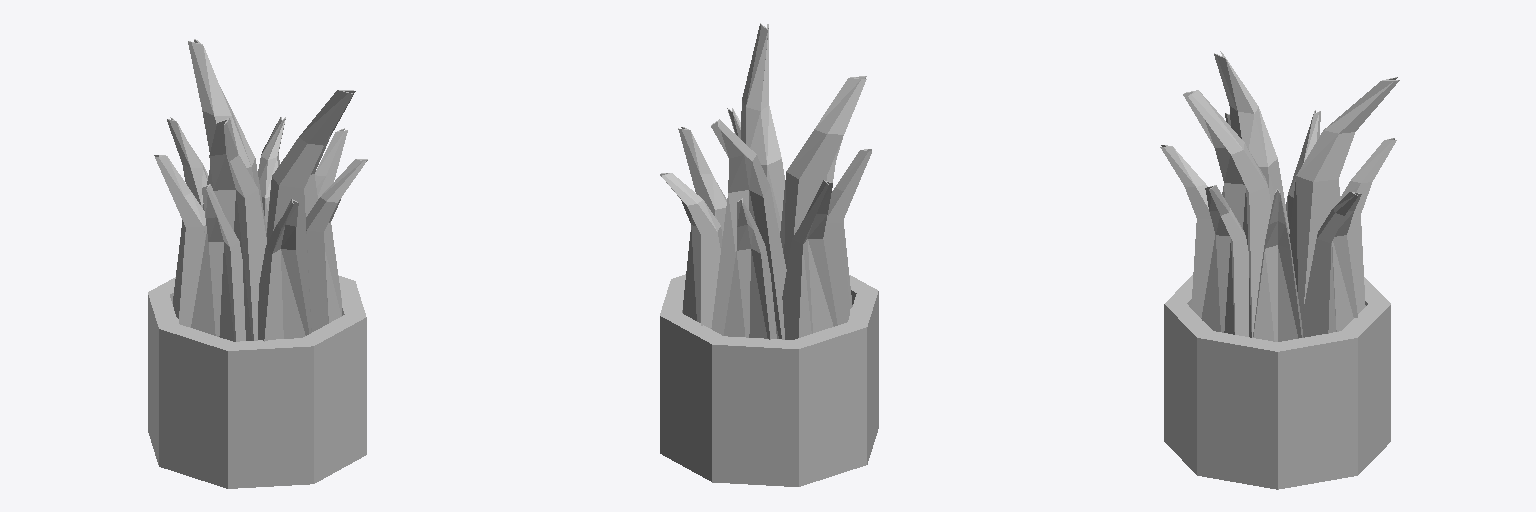
The model's file is plant.obj.
The picture shows the model from 3 angles: view 1: azimuth 30°, elevation 25°; view 2: azimuth 150°, elevation 25°; view 3: azimuth 270°, elevation 25°; orthographic projection.
Parts seen in each view (by area): view 1: pot; view 2: pot; view 3: pot.
Part boxes in pixels (x1,y1,x2,y2): pot: (148,39,367,488); pot: (660,23,878,486); pot: (1160,51,1399,489).
Bounding box in the file's own units: 0.2559 × 0.463 × 0.2709.